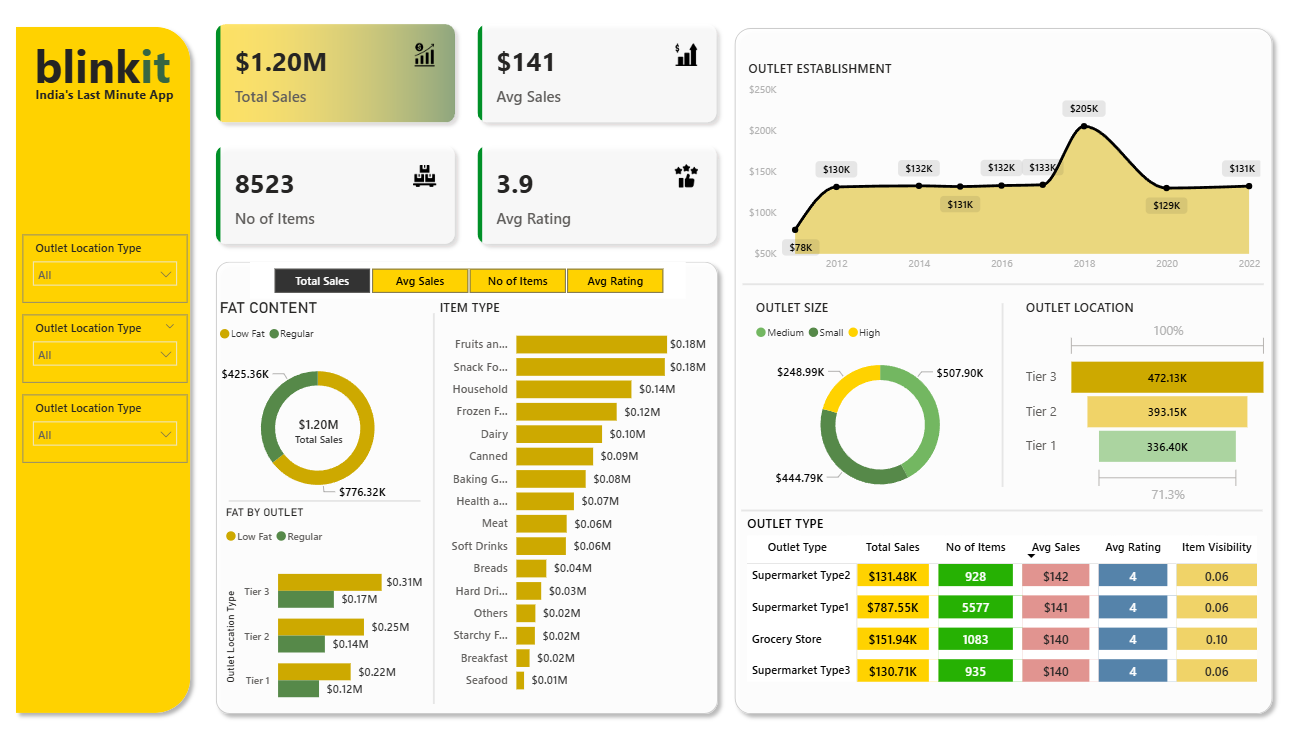

This screenshot's page, from the dashboard's own definition file:
{"tool":"powerbi","page":{"name":"Page 1","canvas":[1400,800],"ordinal":0},"visuals":[{"type":"shape","box":[19.1,23.2,204,750],"z":0},{"type":"textbox","box":[17.7,90,210,57.3],"z":1000},{"type":"textbox","box":[0,34.1,239.9,73.6],"z":2000},{"type":"cardVisual","fields":{"Data":["BlinkIT Grocery Data.Total Sales","BlinkIT Grocery Data.Avg Sales","BlinkIT Grocery Data.No of Items","BlinkIT Grocery Data.Avg Rating"]},"box":[223.6,12.3,569.9,269.9],"z":3000},{"type":"shape","box":[231.8,272.7,553.5,500.3],"z":4000},{"type":"donutChart","title":"FAT CONTENT","fields":{"Y":["BlinkIT Grocery Data.Total Sales"],"Category":["BlinkIT Grocery Data.Item Fat Content"]},"box":[239.9,321.7,219.5,230.4],"z":5000},{"type":"slicer","fields":{"Values":["Metrics.Metrics"]},"box":[276.8,282.2,464.9,39.5],"z":6000},{"type":"cardVisual","fields":{"Data":["BlinkIT Grocery Data.Total Sales"]},"box":[274,411.7,152.7,100.9],"z":7000},{"type":"clusteredBarChart","title":"FAT BY OUTLET","fields":{"Y":["BlinkIT Grocery Data.Total Sales"],"Category":["BlinkIT Grocery Data.Outlet Location Type"],"Series":["BlinkIT Grocery Data.Item Fat Content"]},"box":[247.1,542.9,220,230],"z":8000},{"type":"shape","box":[254.9,527.6,204.5,19.1],"z":9000},{"type":"shape","box":[439,336.7,69.5,417.2],"z":10000},{"type":"barChart","title":"ITEM TYPE","fields":{"Y":["BlinkIT Grocery Data.Total Sales"],"Category":["BlinkIT Grocery Data.Item Type"]},"box":[474.4,321.7,294.5,432.2],"z":11000},{"type":"shape","box":[785.3,24.5,591.7,749.8],"z":12000},{"type":"lineChart","title":"OUTLET ESTABLISHMENT","fields":{"Category":["BlinkIT Grocery Data.Outlet Establishment Year"],"Y":["BlinkIT Grocery Data.Total Sales"]},"box":[804.4,66.8,556.2,234.5],"z":13000},{"type":"shape","box":[803,289,556.2,34.1],"z":14000},{"type":"donutChart","title":"OUTLET SIZE","fields":{"Y":["BlinkIT Grocery Data.Total Sales"],"Category":["BlinkIT Grocery Data.Outlet Size"]},"box":[812.5,320.7,275.4,225],"z":15000},{"type":"funnel","title":"OUTLET LOCATION","fields":{"Category":["BlinkIT Grocery Data.Outlet Location Type"],"Y":["Sum(BlinkIT Grocery Data.Sales)"]},"box":[1100.2,320.7,268.6,225],"z":16000},{"type":"shape","box":[1045.7,326.2,69.5,196.3],"z":17000},{"type":"pivotTable","title":"OUTLET TYPE","fields":{"Rows":["BlinkIT Grocery Data.Outlet Type"],"Values":["BlinkIT Grocery Data.Total Sales","BlinkIT Grocery Data.No of Items","BlinkIT Grocery Data.Avg Sales","BlinkIT Grocery Data.Avg Rating","Avg(BlinkIT Grocery Data.Item Visibility)"]},"box":[802.9,551.4,555.7,205.7],"z":18000},{"type":"shape","box":[801.6,530.3,556.2,34.1],"z":19000},{"type":"slicer","fields":{"Values":["BlinkIT Grocery Data.Outlet Location Type"]},"box":[34.3,252.9,175.7,72.9],"z":20000},{"type":"slicer","fields":{"Values":["BlinkIT Grocery Data.Outlet Location Type"]},"box":[34.3,338.6,175.7,72.9],"z":21000},{"type":"slicer","fields":{"Values":["BlinkIT Grocery Data.Outlet Location Type"]},"box":[34.3,424.3,175.7,72.9],"z":22000}]}

Visuals, with their boxes in screenshot pixels (x1, y1, x2, y2), scaled from the page's 1400x800 canvas onto the 1294x736 screenshot:
shape: box=[18, 21, 206, 711]
textbox: box=[16, 83, 210, 136]
textbox: box=[0, 31, 222, 99]
cardVisual - BlinkIT Grocery Data.Total Sales x BlinkIT Grocery Data.Avg Sales: box=[207, 11, 733, 260]
shape: box=[214, 251, 726, 711]
"FAT CONTENT" donutChart: box=[222, 296, 425, 508]
slicer - Metrics.Metrics: box=[256, 260, 686, 296]
cardVisual - BlinkIT Grocery Data.Total Sales: box=[253, 379, 394, 472]
"FAT BY OUTLET" clusteredBarChart: box=[228, 499, 432, 711]
shape: box=[236, 485, 425, 503]
shape: box=[406, 310, 470, 694]
"ITEM TYPE" barChart: box=[438, 296, 711, 694]
shape: box=[726, 23, 1273, 712]
"OUTLET ESTABLISHMENT" lineChart: box=[743, 61, 1258, 277]
shape: box=[742, 266, 1256, 297]
"OUTLET SIZE" donutChart: box=[751, 295, 1006, 502]
"OUTLET LOCATION" funnel: box=[1017, 295, 1265, 502]
shape: box=[967, 300, 1031, 481]
"OUTLET TYPE" pivotTable: box=[742, 507, 1256, 697]
shape: box=[741, 488, 1255, 519]
slicer - BlinkIT Grocery Data.Outlet Location Type: box=[32, 233, 194, 300]
slicer - BlinkIT Grocery Data.Outlet Location Type: box=[32, 312, 194, 379]
slicer - BlinkIT Grocery Data.Outlet Location Type: box=[32, 390, 194, 457]
